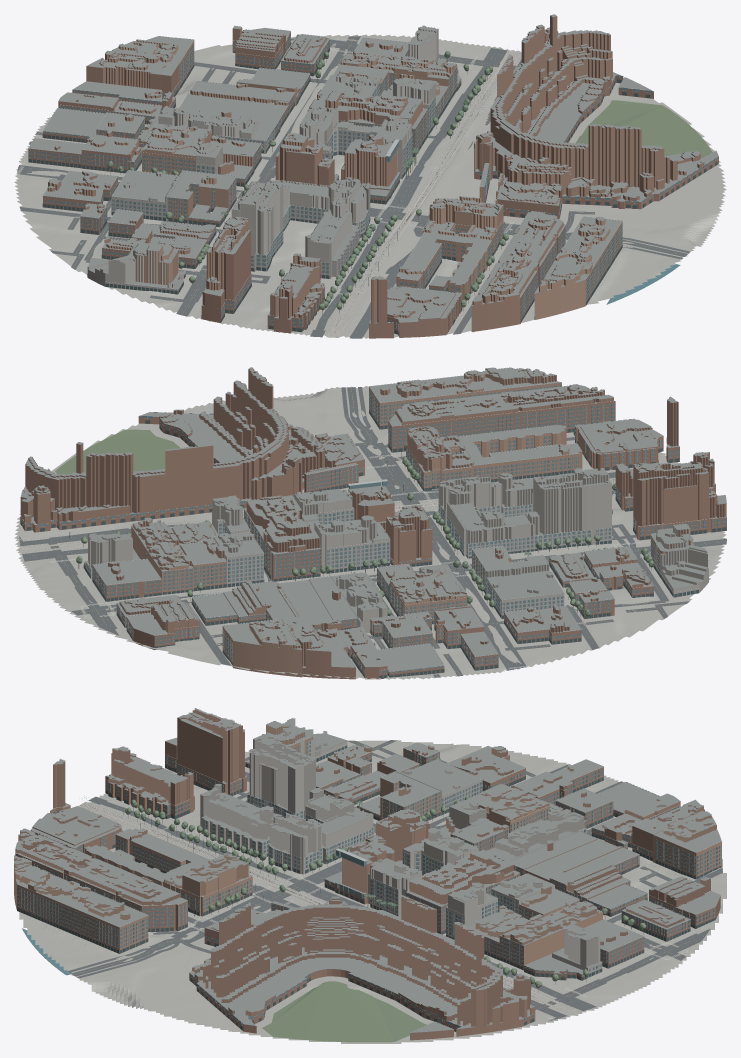
Rendered from king-street.glb.
The picture shows the model from 3 angles, top to bottom: view 1: azimuth 30°, elevation 25°; view 2: azimuth 150°, elevation 25°; view 3: azimuth 270°, elevation 25°; orthographic projection.
Parts seen in each view (by area): view 1: terrain, buildings__sf_201006_0000003, roads, roofs__sf_201006_0000003, buildings__sf_201006_0000213, buildings__sf_201006_0000227, buildings__sf_201006_0000306, landscape, buildings__sf_201006_0000115, vegetation, roofs__sf_201006_0000306, roofs__sf_201006_0000115 (+75 smaller); view 2: terrain, buildings__sf_201006_0000003, roads, buildings__sf_201006_0000213, roofs__sf_201006_0000003, buildings__sf_201006_0000227, buildings__sf_201006_0000115, buildings__sf_201006_0000306, roofs__sf_201006_0000306, roofs__sf_201006_0000115, roofs__sf_201006_0000213, buildings__sf_201006_0000645 (+82 smaller); view 3: terrain, buildings__sf_201006_0000003, roofs__sf_201006_0000003, buildings__sf_201006_0000213, roads, buildings__sf_201006_0000227, landscape, roofs__sf_201006_0000213, buildings__osm_46264108, roofs__sf_201006_0000115, buildings__sf_201006_0000306, roofs__sf_201006_0000306 (+75 smaller).
Part boxes in pixels (x1,y1,x2,y2): terrain: (14,34,726,338); buildings__sf_201006_0000003: (474,15,718,218); roads: (17,36,690,338); roofs__sf_201006_0000003: (474,14,718,211); buildings__sf_201006_0000213: (231,178,370,278); buildings__sf_201006_0000227: (201,217,324,333); buildings__sf_201006_0000306: (396,196,503,301); landscape: (575,100,712,157); buildings__sf_201006_0000115: (471,213,565,331); vegetation: (107,51,508,314); roofs__sf_201006_0000306: (396,196,503,285); roofs__sf_201006_0000115: (472,211,565,305); terrain: (14,386,726,679); buildings__sf_201006_0000003: (20,368,364,532); roads: (19,387,726,677); buildings__sf_201006_0000213: (438,469,611,558); roofs__sf_201006_0000003: (20,367,364,525); buildings__sf_201006_0000227: (615,452,726,540); buildings__sf_201006_0000115: (388,385,615,452); buildings__sf_201006_0000306: (406,426,582,490); roofs__sf_201006_0000306: (406,425,581,472); roofs__sf_201006_0000115: (389,384,615,426); roofs__sf_201006_0000213: (438,468,611,544); buildings__sf_201006_0000645: (244,496,320,581); terrain: (19,740,726,1043); buildings__sf_201006_0000003: (189,897,535,1040); roofs__sf_201006_0000003: (189,894,534,1032); buildings__sf_201006_0000213: (200,734,374,874); roads: (68,740,722,1021); buildings__sf_201006_0000227: (105,710,246,819); landscape: (262,981,427,1042); roofs__sf_201006_0000213: (200,734,373,858); buildings__osm_46264108: (14,858,148,953); roofs__sf_201006_0000115: (15,828,187,906); buildings__sf_201006_0000306: (84,830,252,916); roofs__sf_201006_0000306: (85,828,251,897).
Bounding box in the file's own units: 532 × 65.88 × 532.
